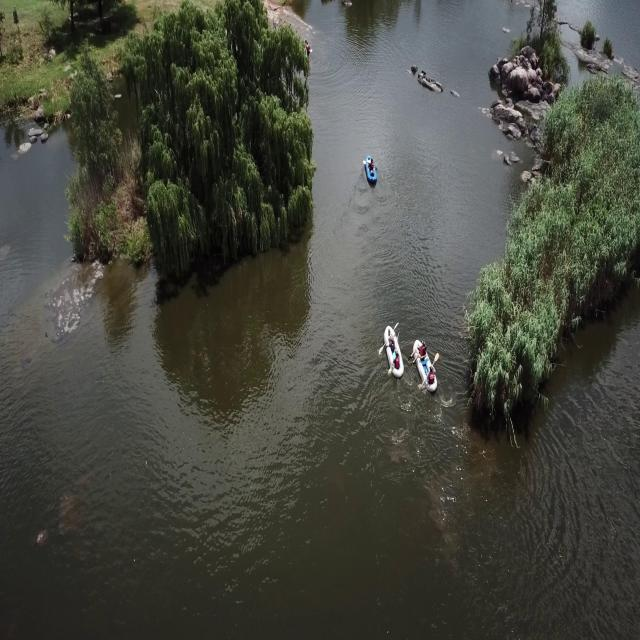kayak: (410, 332, 440, 396), (379, 316, 404, 380), (361, 152, 379, 186)
